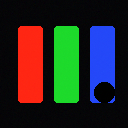2 circle: (94, 82, 114, 102)
